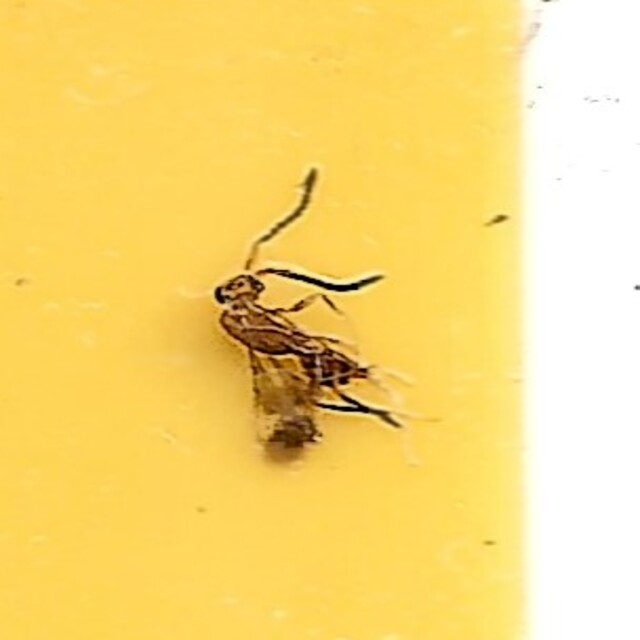Hymenoptera: (211, 167, 429, 473)
